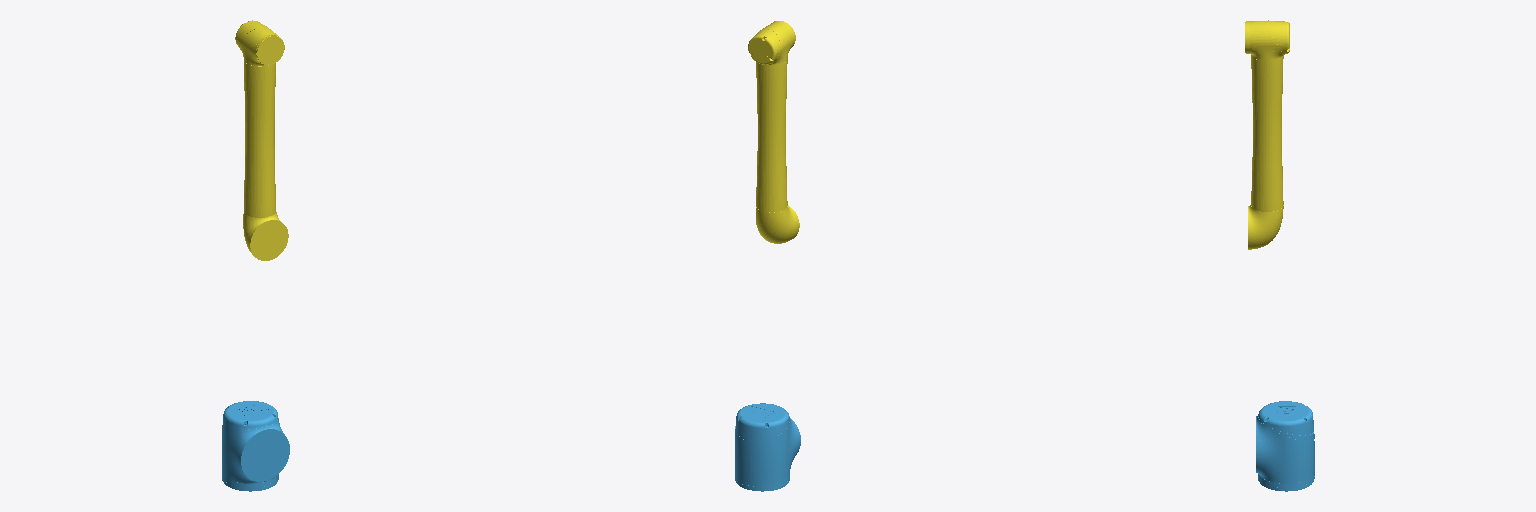
The robot description file, URDF, robot "tm20":
<?xml version="1.0" ?>
<!-- =================================================================================== -->
<!-- |    This document was autogenerated by xacro from tm20.urdf.xacro                | -->
<!-- |    EDITING THIS FILE BY HAND IS NOT RECOMMENDED                                 | -->
<!-- =================================================================================== -->
<robot name="tm20">
  <gazebo reference="link_1">
    <selfCollide>true</selfCollide>
  </gazebo>
  <gazebo reference="link_2">
    <selfCollide>true</selfCollide>
  </gazebo>
  <gazebo reference="link_3">
    <selfCollide>true</selfCollide>
  </gazebo>
  <gazebo reference="link_4">
    <selfCollide>true</selfCollide>
  </gazebo>
  <gazebo reference="link_5">
    <selfCollide>true</selfCollide>
  </gazebo>
  <gazebo reference="link_6">
    <selfCollide>true</selfCollide>
  </gazebo>
  <gazebo>
    <plugin filename="libgazebo_ros_control.so" name="gazebo_ros_control">
      <robotNamespace>/</robotNamespace>
      <robotSimType>gazebo_ros_control/DefaultRobotHWSim</robotSimType>
    </plugin>
  </gazebo>
  <transmission name="trans_1">
    <type>transmission_interface/SimpleTransmission</type>
    <joint name="joint_1">
      <hardwareInterface>hardware_interface/PositionJointInterface</hardwareInterface>
    </joint>
    <actuator name="motor_1">
      <mechanicalReduction>1</mechanicalReduction>
    </actuator>
  </transmission>
  <transmission name="trans_2">
    <type>transmission_interface/SimpleTransmission</type>
    <joint name="joint_2">
      <hardwareInterface>hardware_interface/PositionJointInterface</hardwareInterface>
    </joint>
    <actuator name="motor_2">
      <mechanicalReduction>1</mechanicalReduction>
    </actuator>
  </transmission>
  <transmission name="trans_3">
    <type>transmission_interface/SimpleTransmission</type>
    <joint name="joint_3">
      <hardwareInterface>hardware_interface/PositionJointInterface</hardwareInterface>
    </joint>
    <actuator name="motor_3">
      <mechanicalReduction>1</mechanicalReduction>
    </actuator>
  </transmission>
  <transmission name="trans_4">
    <type>transmission_interface/SimpleTransmission</type>
    <joint name="joint_4">
      <hardwareInterface>hardware_interface/PositionJointInterface</hardwareInterface>
    </joint>
    <actuator name="motor_4">
      <mechanicalReduction>1</mechanicalReduction>
    </actuator>
  </transmission>
  <transmission name="trans_5">
    <type>transmission_interface/SimpleTransmission</type>
    <joint name="joint_5">
      <hardwareInterface>hardware_interface/PositionJointInterface</hardwareInterface>
    </joint>
    <actuator name="motor_5">
      <mechanicalReduction>1</mechanicalReduction>
    </actuator>
  </transmission>
  <transmission name="trans_6">
    <type>transmission_interface/SimpleTransmission</type>
    <joint name="joint_6">
      <hardwareInterface>hardware_interface/PositionJointInterface</hardwareInterface>
    </joint>
    <actuator name="motor_6">
      <mechanicalReduction>1</mechanicalReduction>
    </actuator>
  </transmission>
  <material name="lightgrey">
    <color rgba="0.5 0.5 0.5 1.0"/>
  </material>
  <material name="grey">
    <color rgba="0.75 0.75 0.75 1.0"/>
  </material>
  <material name="white">
    <color rgba="0.95 0.95 0.95 1.0"/>
  </material>
  <material name="red">
    <color rgba="0.95 0.0 0.0 1.0"/>
  </material>
  <material name="orange">
    <color rgba="1.0 0.5 0.0 1.0"/>
  </material>
  <material name="yellow">
    <color rgba="1.0 1.0 0.0 1.0"/>
  </material>
  <material name="green">
    <color rgba="0.0 1.0 0.0 1.0"/>
  </material>
  <material name="blue">
    <color rgba="0.0 0.0 1.0 1.0"/>
  </material>
  <material name="indigo">
    <color rgba="0.3 0.3 0.6 1.0"/>
  </material>
  <material name="violet">
    <color rgba="0.6 0.0 1.0 1.0"/>
  </material>
  <material name="black">
    <color rgba="0.0 0.0 0.0 1.0"/>
  </material>
  <material name="darkolive">
    <color rgba="0.3 0.3 0.25 1.0"/>
  </material>
  <!--LinkDescription-->
  <link name="link_0">
    <visual>
      <geometry>
        <mesh filename="package://tm_description/meshes/tm12/visual/tm12-base.obj"/>
      </geometry>
      <material name="none"/>
    </visual>
    <collision>
      <geometry>
        <mesh filename="package://tm_description/meshes/tm12/collision/tm12-base_c.stl"/>
      </geometry>
    </collision>
    <inertial>
      <mass value="1.0"/>
      <origin rpy="0.000000 0.000000 0.000000" xyz="0.000000 0.000000 0.000000"/>
      <inertia ixx="0.00110833289" ixy="0.0" ixz="0.0" iyy="0.00110833289" iyz="0.0" izz="0.0018"/>
    </inertial>
  </link>
  <joint name="joint_1" type="revolute">
    <parent link="link_0"/>
    <child link="link_1"/>
    <origin rpy="0.000000 -0.000000 0.000000" xyz="0.000000 0.000000 0.165200"/>
    <axis xyz="0 0 1"/>
    <!--limit-->
    <limit effort="350" lower="-4.71238898038469" upper="4.71238898038469" velocity="1.5707963267948966"/>
    <dynamics damping="0.0" friction="0.0"/>
  </joint>
  <link name="link_1">
    <visual>
      <geometry>
        <mesh filename="package://tm_description/meshes/tm20/visual/tm20-j1.obj"/>
      </geometry>
      <material name="none"/>
    </visual>
    <collision>
      <geometry>
        <mesh filename="package://tm_description/meshes/tm20/collision/tm20-j1_c.stl"/>
      </geometry>
    </collision>
    <inertial>
      <origin rpy="0.000000 0.000000 0.000000" xyz="0.000000 0.000000 0.000000"/>
      <mass value="7.6"/>
      <inertia ixx="0.020289334" ixy="0.000000" ixz="0.000000" iyy="0.020289334" iyz="0.000000" izz="0.021396270999999998"/>
    </inertial>
  </link>
  <joint name="joint_2" type="revolute">
    <parent link="link_1"/>
    <child link="link_2"/>
    <origin rpy="-1.570796 -1.570796 0.000000" xyz="0.000000 0.000000 0.000000"/>
    <axis xyz="0 0 1"/>
    <!--limit-->
    <limit effort="350" lower="-3.141592653589793" upper="3.141592653589793" velocity="1.5707963267948966"/>
    <dynamics damping="0.0" friction="0.0"/>
  </joint>
  <link name="link_2">
    <visual>
      <geometry>
        <mesh filename="package://tm_description/meshes/tm20/visual/tm20-arm1.obj"/>
      </geometry>
      <material name="none"/>
    </visual>
    <collision>
      <geometry>
        <mesh filename="package://tm_description/meshes/tm20/collision/tm20-arm1_c.stl"/>
      </geometry>
    </collision>
    <inertial>
      <origin rpy="0.000000 0.000000 0.000000" xyz="0.000000 0.000000 0.000000"/>
      <mass value="14.0239"/>
      <inertia ixx="0.071505715" ixy="0.000000" ixz="0.000000" iyy="1.1758788999999998" iyz="0.000000" izz="1.2033932999999999"/>
    </inertial>
  </link>
  <joint name="joint_3" type="revolute">
    <parent link="link_2"/>
    <child link="link_3"/>
    <origin rpy="0.000000 -0.000000 0.000000" xyz="0.636100 0.000000 0.000000"/>
    <axis xyz="0 0 1"/>
    <!--limit-->
    <limit effort="170" lower="-2.897246558310587" upper="2.897246558310587" velocity="2.0943951023931953"/>
    <dynamics damping="0.0" friction="0.0"/>
  </joint>
  <link name="link_3">
    <visual>
      <geometry>
        <mesh filename="package://tm_description/meshes/tm20/visual/tm20-arm2.obj"/>
      </geometry>
      <material name="none"/>
    </visual>
    <collision>
      <geometry>
        <mesh filename="package://tm_description/meshes/tm20/collision/tm20-arm2_c.stl"/>
      </geometry>
    </collision>
    <inertial>
      <origin rpy="0.000000 0.000000 0.000000" xyz="0.000000 0.000000 0.000000"/>
      <mass value="3.3577"/>
      <inertia ixx="0.009755469" ixy="0.000000" ixz="0.000000" iyy="0.16334719" iyz="0.000000" izz="0.16656678"/>
    </inertial>
  </link>
  <joint name="joint_4" type="revolute">
    <parent link="link_3"/>
    <child link="link_4"/>
    <origin rpy="0.000000 -0.000000 1.570796" xyz="0.557900 0.000000 -0.156300"/>
    <axis xyz="0 0 1"/>
    <!--limit-->
    <limit effort="45" lower="-3.141592653589793" upper="3.141592653589793" velocity="2.6179938779914944"/>
    <dynamics damping="0.0" friction="0.0"/>
  </joint>
  <link name="link_4">
    <visual>
      <geometry>
        <mesh filename="package://tm_description/meshes/tm20/visual/tm20-j5.obj"/>
      </geometry>
      <material name="none"/>
    </visual>
    <collision>
      <geometry>
        <mesh filename="package://tm_description/meshes/tm20/collision/tm20-j5_c.stl"/>
      </geometry>
    </collision>
    <inertial>
      <origin rpy="0.000000 0.000000 0.000000" xyz="0.000000 0.000000 0.000000"/>
      <mass value="1.576"/>
      <inertia ixx="0.002058405" ixy="0.000000" ixz="0.000000" iyy="0.0025630790000000002" iyz="0.000000" izz="0.00264321"/>
    </inertial>
  </link>
  <joint name="joint_5" type="revolute">
    <parent link="link_4"/>
    <child link="link_5"/>
    <origin rpy="1.570796 -0.000000 0.000000" xyz="0.000000 -0.106000 0.000000"/>
    <axis xyz="0 0 1"/>
    <!--limit-->
    <limit effort="45" lower="-3.141592653589793" upper="3.141592653589793" velocity="3.141592653589793"/>
    <dynamics damping="0.0" friction="0.0"/>
  </joint>
  <link name="link_5">
    <visual>
      <geometry>
        <mesh filename="package://tm_description/meshes/tm20/visual/tm20-j6.obj"/>
      </geometry>
      <material name="none"/>
    </visual>
    <collision>
      <geometry>
        <mesh filename="package://tm_description/meshes/tm20/collision/tm20-j6_c.stl"/>
      </geometry>
    </collision>
    <inertial>
      <origin rpy="0.000000 0.000000 0.000000" xyz="0.000000 0.000000 0.000000"/>
      <mass value="1.576"/>
      <inertia ixx="0.002058405" ixy="0.000000" ixz="0.000000" iyy="0.0025630790000000002" iyz="0.000000" izz="0.00264321"/>
    </inertial>
  </link>
  <joint name="joint_6" type="revolute">
    <parent link="link_5"/>
    <child link="link_6"/>
    <origin rpy="1.570796 -0.000000 0.000000" xyz="0.000000 -0.113150 0.000000"/>
    <axis xyz="0 0 1"/>
    <!--limit-->
    <limit effort="45" lower="-4.71238898038469" upper="4.71238898038469" velocity="3.9269908169872414"/>
    <dynamics damping="0.0" friction="0.0"/>
  </joint>
  <link name="link_6">
    <visual>
      <geometry>
        <mesh filename="package://tm_description/meshes/tm5-900/visual/tmr_ee.obj"/>
      </geometry>
      <material name="none"/>
    </visual>
    <collision>
      <geometry>
        <mesh filename="package://tm_description/meshes/tm5-900/collision/tmr_ee_c.stl"/>
      </geometry>
    </collision>
    <inertial>
      <origin rpy="0.000000 0.000000 0.000000" xyz="0.000000 0.000000 0.000000"/>
      <mass value="0.4"/>
      <inertia ixx="0.00047664299999999996" ixy="0.000000" ixz="0.000000" iyy="0.0008515759999999999" iyz="0.000000" izz="0.00095969"/>
    </inertial>
  </link>
  <link name="base"/>
  <joint name="base_fixed_joint" type="fixed">
    <parent link="base"/>
    <child link="link_0"/>
    <origin rpy="0.000000 0.000000 0.000000" xyz="0.000000 0.000000 0.000000"/>
  </joint>
  <link name="flange"/>
  <joint name="flange_fixed_joint" type="fixed">
    <parent link="link_6"/>
    <child link="flange"/>
    <origin rpy="0.000000 0.000000 0.000000" xyz="0.000000 0.000000 0.000000"/>
  </joint>
  <!--LinkDescription-->
</robot>

--- What the picture shows (computed from the rendered views, not written in the file) ---
Views: 3 orthographic renders of the robot side by side, from view 1: azimuth 30°, elevation 25°; view 2: azimuth 150°, elevation 25°; view 3: azimuth 270°, elevation 25°.
Model tm20 with 9 links and 8 joints (6 revolute, 2 fixed), rooted at base, posed all joints at 0.
Links seen in each view (by area): view 1: link_3, link_1; view 2: link_3, link_1; view 3: link_3, link_1.
Link boxes in pixels (x1=…): link_3: x1=235, y1=20, x2=288, y2=260; link_1: x1=222, y1=401, x2=289, y2=491; link_3: x1=748, y1=21, x2=799, y2=243; link_1: x1=735, y1=403, x2=800, y2=491; link_3: x1=1245, y1=20, x2=1289, y2=249; link_1: x1=1256, y1=401, x2=1314, y2=491.
Size in the robot's own frame: 0.1516 by 0.1843 by 1.34 metres.
2 mesh visuals loaded from 7 distinct referenced files (2 OBJ); not drawn: 5 (reference not matched to a file when rendering).